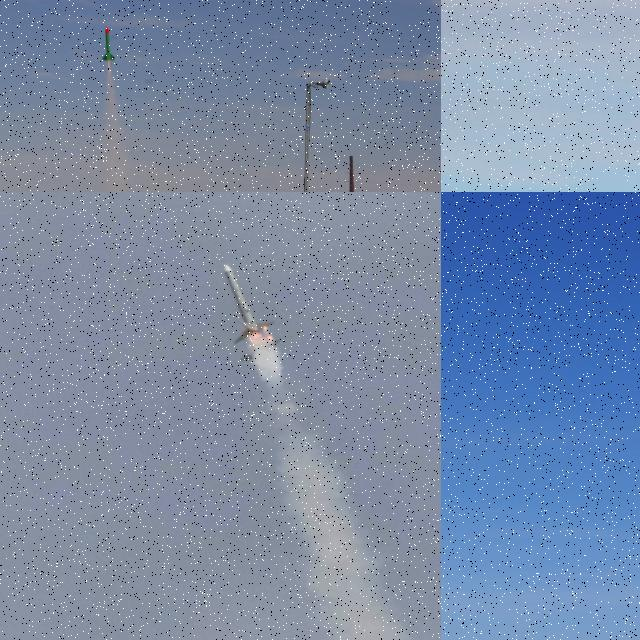Rocket: (222, 264, 284, 364), (101, 26, 116, 62)
